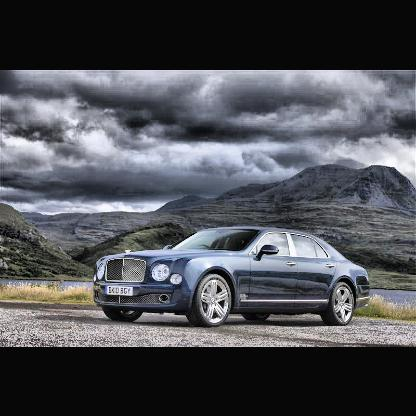Bentley Mulsanne Sedan 2011: (93, 224, 374, 328)
